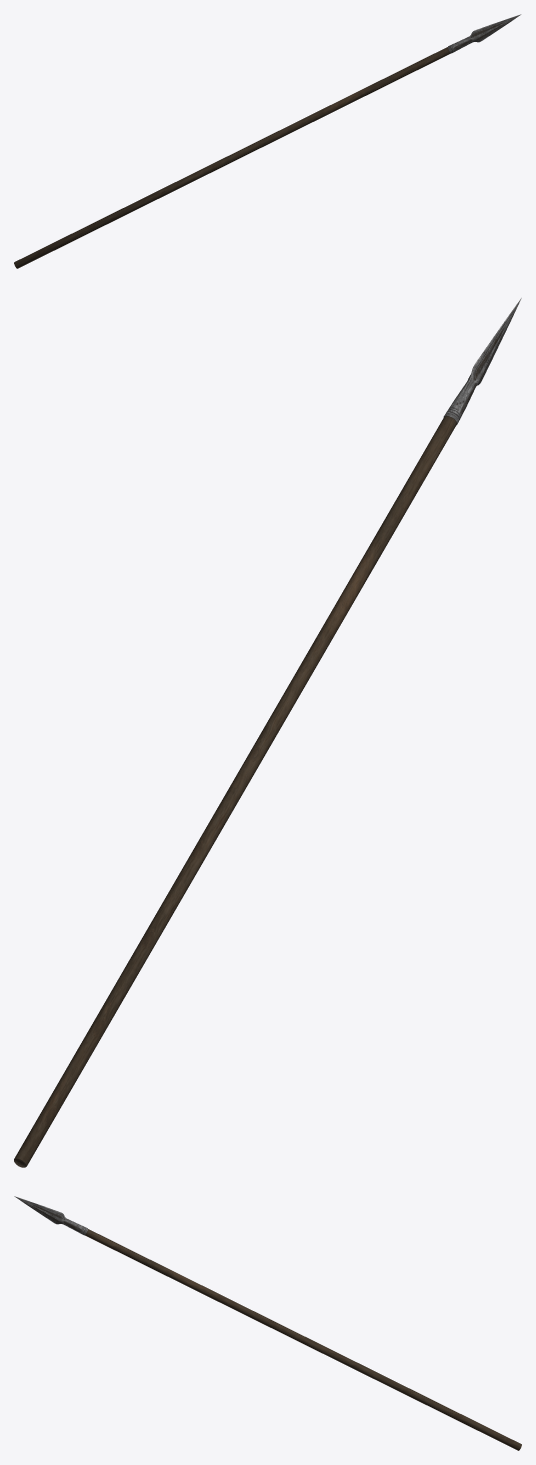
Rendered from spear.glb.
3 renders of one model, top to bottom at view 1: azimuth 90°, elevation 25°; view 2: azimuth 150°, elevation 25°; view 3: azimuth 270°, elevation 25°, orthographic. The views are drawn at different scales.
Parts seen in each view (by area): view 1: kopie_lp002__0; view 2: kopie_lp002__0; view 3: kopie_lp002__0.
Boxes of the visible parts, bbox=[...] form: kopie_lp002__0: bbox=[14, 14, 521, 268]; kopie_lp002__0: bbox=[14, 298, 521, 1167]; kopie_lp002__0: bbox=[14, 1196, 521, 1450].
Bounding box in the file's own units: 3.18 × 113 × 205.
Materials: 1 (1 with a texture image).
